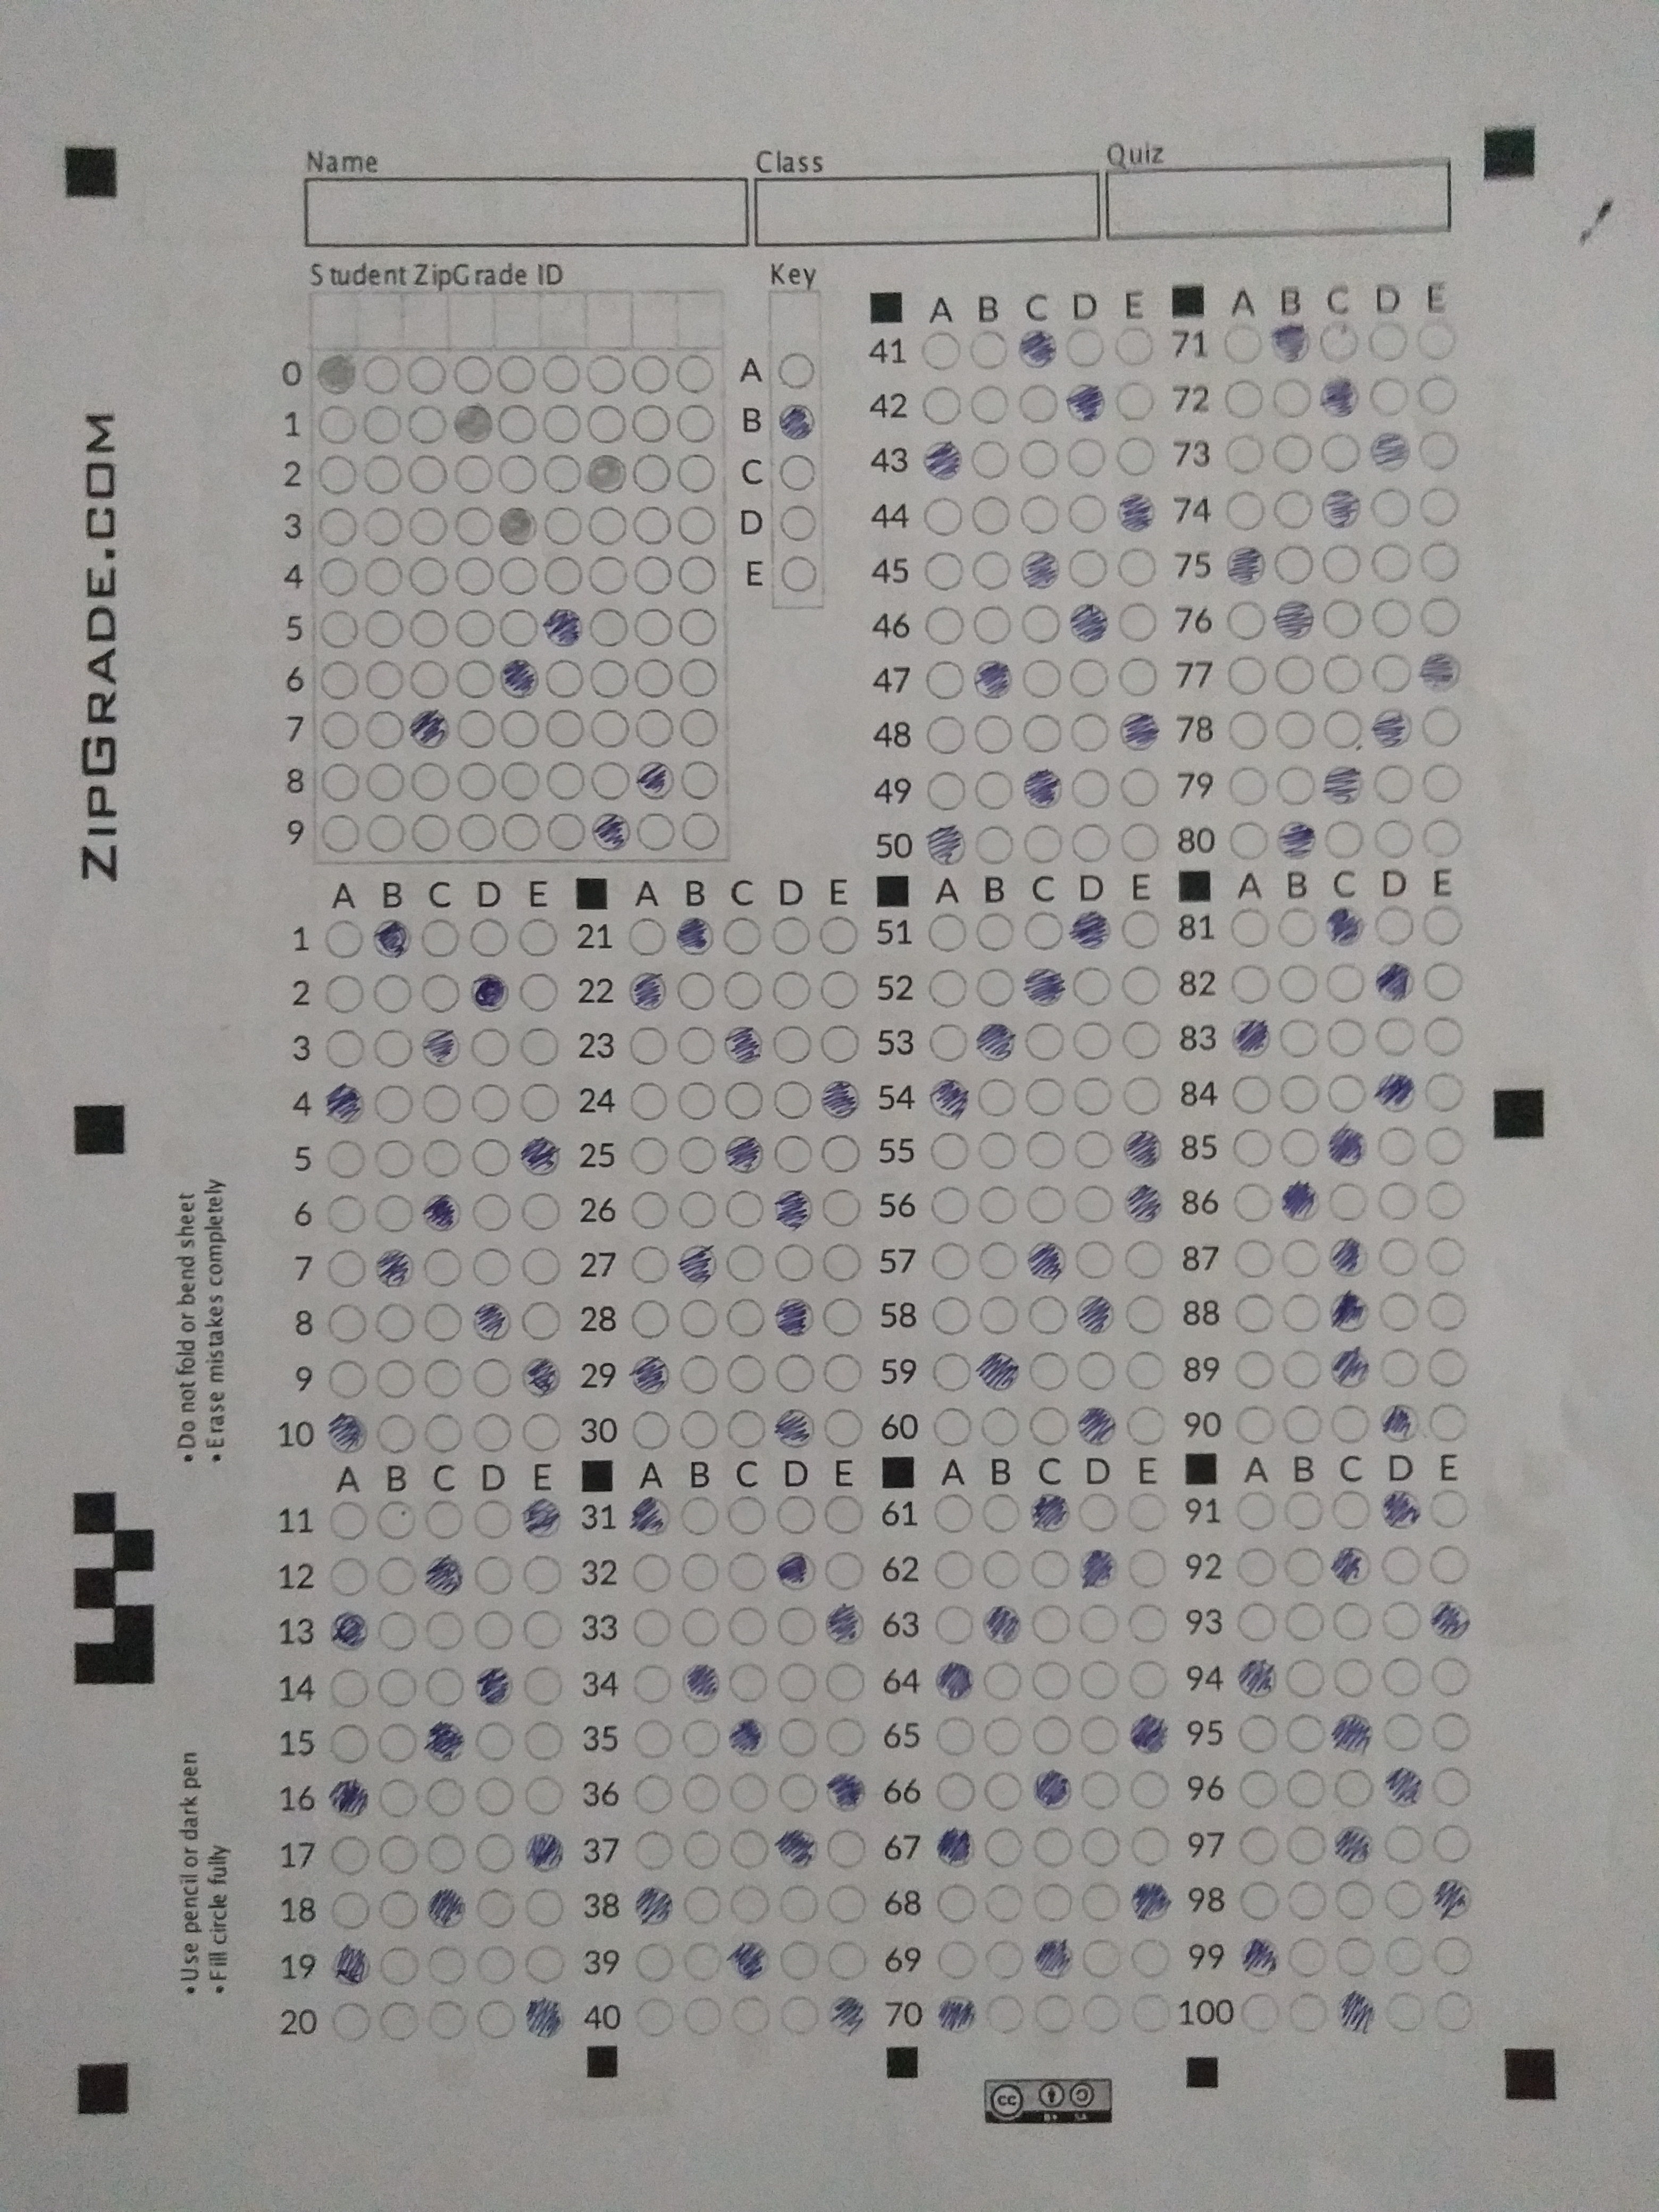not-c: (1080, 1991, 1124, 2036), (359, 354, 403, 397), (453, 451, 497, 495), (359, 505, 403, 549), (406, 503, 450, 547), (406, 453, 450, 496), (406, 402, 450, 446), (408, 604, 451, 648), (361, 453, 404, 496), (315, 556, 359, 599), (314, 451, 357, 495), (586, 352, 629, 395), (629, 352, 673, 395), (538, 352, 582, 395), (495, 352, 538, 395), (451, 352, 495, 395), (404, 352, 448, 395), (314, 402, 357, 446), (772, 1076, 814, 1122), (317, 505, 361, 547), (361, 404, 404, 446), (676, 354, 720, 395), (362, 709, 404, 752), (631, 606, 674, 648), (633, 554, 676, 596), (542, 554, 586, 596), (586, 402, 629, 444), (544, 707, 587, 749), (519, 1299, 563, 1341), (819, 1021, 863, 1062), (725, 1188, 769, 1230), (817, 914, 861, 956), (627, 1080, 671, 1122), (821, 1406, 864, 1447), (1122, 1350, 1166, 1392), (1377, 1179, 1420, 1221), (1328, 1181, 1371, 1223), (1324, 1015, 1368, 1057), (1237, 1824, 1281, 1865), (1234, 1489, 1277, 1531), (1079, 1937, 1122, 1979), (1077, 1604, 1121, 1646), (1075, 1491, 1119, 1533), (1127, 1660, 1171, 1702), (1127, 1768, 1171, 1810), (1028, 1548, 1072, 1590), (1028, 1604, 1072, 1646), (924, 549, 967, 590), (1366, 320, 1410, 362), (1222, 434, 1265, 475), (1323, 707, 1366, 749), (1370, 486, 1413, 528), (1225, 765, 1269, 806), (681, 1994, 725, 2036), (678, 1716, 721, 1757), (631, 1773, 674, 1815), (631, 1829, 674, 1871), (326, 1667, 369, 1709), (422, 1498, 465, 1540), (629, 1552, 673, 1594), (521, 1608, 565, 1649), (472, 1831, 516, 1872), (329, 2001, 373, 2043), (425, 2000, 469, 2041), (498, 451, 538, 496), (364, 812, 406, 853), (674, 505, 716, 547), (676, 402, 718, 444), (587, 606, 629, 648), (678, 657, 720, 698), (420, 1301, 462, 1343), (518, 970, 559, 1012), (723, 1242, 765, 1284), (725, 1078, 767, 1120), (676, 1080, 718, 1122), (774, 1352, 816, 1393), (821, 1186, 863, 1228), (1073, 1238, 1115, 1280), (978, 1292, 1019, 1334), (1432, 1991, 1474, 2033), (1330, 1402, 1371, 1444), (1284, 1766, 1326, 1808), (1382, 1824, 1424, 1865), (1384, 1933, 1425, 1975), (1384, 1989, 1425, 2031), (1066, 547, 1108, 589), (924, 604, 965, 646), (924, 714, 965, 756), (969, 439, 1011, 481), (1019, 493, 1061, 535), (1270, 434, 1312, 475), (1227, 599, 1269, 641), (1229, 819, 1270, 860), (1373, 763, 1415, 805), (777, 1883, 819, 1925), (633, 1940, 674, 1982), (826, 1940, 868, 1982), (779, 1940, 821, 1982), (823, 1494, 864, 1536), (727, 1660, 769, 1702), (423, 1608, 465, 1649), (328, 1498, 369, 1540), (523, 1719, 565, 1761), (376, 1888, 418, 1930), (380, 1944, 422, 1986), (474, 1886, 516, 1928), (378, 2000, 420, 2041), (775, 451, 817, 493), (451, 507, 495, 547), (410, 761, 453, 801), (317, 813, 361, 853), (317, 761, 361, 801), (676, 606, 720, 646), (455, 608, 498, 648), (587, 554, 631, 594), (498, 556, 542, 596), (676, 451, 720, 491), (633, 658, 676, 698), (500, 759, 544, 799), (497, 707, 540, 747), (457, 812, 500, 852), (455, 707, 498, 747), (680, 810, 723, 850), (678, 707, 721, 747), (633, 707, 676, 747), (469, 1357, 512, 1397), (471, 1245, 514, 1285), (324, 1249, 368, 1289), (469, 1191, 512, 1231), (373, 1191, 416, 1231), (324, 1193, 368, 1233), (324, 1137, 368, 1177), (324, 1029, 368, 1069), (519, 1082, 563, 1122), (371, 972, 415, 1012), (519, 1411, 563, 1451), (469, 1413, 512, 1453), (422, 1413, 465, 1453), (772, 1132, 816, 1172), (770, 1026, 814, 1066), (770, 970, 814, 1010), (721, 970, 765, 1010), (627, 1136, 671, 1176), (626, 916, 669, 956), (678, 1409, 721, 1449), (676, 1298, 720, 1338), (978, 1238, 1021, 1278), (1072, 1183, 1115, 1223), (1072, 1129, 1115, 1169), (1072, 1076, 1115, 1116), (1070, 1021, 1114, 1061), (1023, 1021, 1066, 1061), (927, 1021, 971, 1061), (927, 967, 971, 1007), (1119, 909, 1162, 949), (974, 911, 1018, 951), (927, 911, 971, 951), (1236, 1404, 1279, 1444), (1124, 1406, 1168, 1446), (1028, 1406, 1072, 1446), (1025, 1294, 1068, 1334), (931, 1296, 974, 1336), (929, 1240, 972, 1280), (1279, 1348, 1323, 1388), (1279, 1291, 1323, 1331), (1234, 1292, 1277, 1332), (1377, 1237, 1420, 1277), (1424, 1071, 1467, 1111), (1279, 1129, 1323, 1169), (1229, 907, 1272, 948), (1283, 1489, 1326, 1529), (1427, 1487, 1471, 1527), (1378, 1346, 1422, 1386), (1284, 1824, 1328, 1864), (1286, 1712, 1330, 1752), (1431, 1824, 1474, 1864), (1429, 1766, 1473, 1806), (1429, 1710, 1473, 1750), (1380, 1710, 1424, 1750), (1429, 1656, 1473, 1696), (1431, 1937, 1474, 1977), (1335, 1937, 1378, 1977), (1284, 1937, 1328, 1977), (1331, 1878, 1375, 1918), (1284, 1881, 1328, 1921), (1288, 1993, 1331, 2033), (931, 1494, 974, 1534), (1079, 1825, 1122, 1865), (1127, 1825, 1171, 1865), (1079, 1881, 1122, 1921), (1030, 1883, 1073, 1923), (981, 1883, 1025, 1923), (934, 1940, 978, 1980), (1131, 1939, 1175, 1979), (983, 1994, 1026, 2034), (1126, 1548, 1169, 1588), (1127, 1604, 1171, 1644), (1077, 1716, 1121, 1756), (981, 1773, 1025, 1813), (934, 1771, 978, 1811), (983, 1827, 1026, 1867), (979, 1550, 1023, 1590), (981, 1662, 1025, 1702), (1028, 1660, 1072, 1700), (1114, 380, 1157, 420), (971, 604, 1014, 644), (1019, 603, 1063, 643), (1019, 658, 1063, 698), (1115, 657, 1159, 697), (971, 714, 1014, 754), (972, 826, 1016, 866), (1021, 824, 1065, 864), (1068, 822, 1112, 862), (1117, 820, 1161, 860), (1114, 327, 1157, 368), (1061, 327, 1105, 368), (1016, 383, 1060, 423), (1016, 439, 1060, 479), (969, 383, 1012, 423), (1065, 493, 1108, 533), (1317, 322, 1361, 362), (1276, 709, 1319, 749), (1417, 488, 1460, 528), (1319, 543, 1363, 583), (1420, 817, 1464, 857), (1371, 819, 1415, 859), (824, 1885, 868, 1925), (634, 1994, 678, 2034), (728, 1994, 772, 2034), (633, 1608, 676, 1648), (727, 1606, 770, 1646), (775, 1606, 819, 1646), (774, 1663, 817, 1703), (821, 1662, 864, 1702), (629, 1719, 673, 1759), (775, 1717, 819, 1757), (823, 1716, 866, 1756), (680, 1771, 723, 1811), (775, 1771, 819, 1811), (727, 1827, 770, 1867), (375, 1721, 418, 1761), (375, 1667, 418, 1707), (375, 1611, 418, 1651), (328, 1724, 371, 1764), (678, 1494, 721, 1534), (521, 1775, 565, 1815), (472, 1775, 516, 1815), (521, 1554, 565, 1594), (423, 1832, 467, 1872), (422, 1667, 465, 1707), (474, 1942, 518, 1982), (425, 1944, 469, 1984), (775, 352, 819, 392), (775, 502, 819, 542), (777, 554, 821, 594), (364, 556, 404, 597), (317, 608, 359, 648), (408, 554, 448, 596), (375, 1413, 416, 1453), (410, 658, 451, 698), (364, 761, 406, 801), (364, 658, 406, 698), (317, 660, 359, 700), (674, 554, 716, 594), (498, 608, 540, 648), (633, 505, 674, 545), (586, 505, 627, 545), (542, 505, 584, 545), (631, 453, 673, 493), (542, 453, 584, 493), (631, 402, 673, 442), (542, 402, 584, 442), (497, 402, 538, 442), (453, 557, 495, 597), (591, 759, 633, 799), (589, 707, 631, 747), (589, 658, 631, 698), (547, 812, 589, 852), (545, 761, 587, 801), (544, 658, 586, 698), (500, 812, 542, 852), (457, 761, 498, 801), (362, 608, 404, 648), (410, 813, 451, 853), (518, 918, 559, 958), (467, 918, 509, 958), (418, 918, 460, 958), (322, 918, 364, 958), (680, 759, 721, 799), (319, 711, 361, 751), (422, 1359, 464, 1399), (373, 1359, 415, 1399), (326, 1359, 368, 1399), (371, 1139, 413, 1179), (326, 1303, 368, 1343), (521, 1245, 563, 1285), (521, 1188, 563, 1228), (422, 1247, 464, 1287), (471, 1137, 512, 1177), (420, 1137, 462, 1177), (375, 1303, 416, 1343), (471, 1083, 512, 1123), (420, 1082, 462, 1122), (371, 1083, 413, 1123), (469, 1026, 511, 1066), (371, 1028, 413, 1068), (518, 1026, 559, 1066), (420, 972, 462, 1012), (322, 974, 364, 1014), (631, 1409, 673, 1449), (631, 1299, 673, 1339), (817, 968, 859, 1008), (676, 1190, 718, 1230), (676, 1134, 718, 1174), (629, 1190, 671, 1230), (770, 914, 812, 954), (721, 916, 763, 956), (629, 1245, 671, 1285), (676, 1024, 718, 1064), (627, 1024, 669, 1064), (931, 1407, 972, 1447), (680, 1353, 721, 1393), (725, 1407, 767, 1447), (725, 1353, 767, 1393), (725, 1298, 767, 1338), (821, 1352, 863, 1392), (823, 1296, 864, 1336), (821, 1242, 863, 1282), (772, 1240, 814, 1280), (819, 1132, 861, 1172), (1234, 1348, 1276, 1388), (1122, 1238, 1164, 1278), (976, 1184, 1018, 1224), (1026, 1183, 1068, 1223), (1025, 1129, 1066, 1169), (1023, 1076, 1065, 1116), (978, 1129, 1019, 1169), (1121, 1075, 1162, 1115), (1119, 965, 1161, 1005), (1122, 1019, 1164, 1059), (1072, 965, 1114, 1005), (976, 1076, 1018, 1116), (976, 967, 1018, 1007), (1023, 911, 1065, 951), (979, 1406, 1021, 1446), (1075, 1352, 1117, 1392), (1028, 1350, 1070, 1390), (931, 1352, 972, 1392), (1124, 1294, 1166, 1334), (929, 1184, 971, 1224), (1427, 1235, 1469, 1275), (1424, 1179, 1466, 1219), (1425, 1125, 1467, 1165), (1377, 1127, 1419, 1167), (1424, 1015, 1466, 1055), (1375, 1014, 1417, 1054), (1424, 960, 1466, 1000), (1422, 906, 1464, 946), (1373, 904, 1415, 944), (1326, 1073, 1368, 1113), (1324, 961, 1366, 1001), (1279, 1237, 1321, 1277), (1279, 1073, 1321, 1113), (1277, 1017, 1319, 1057), (1279, 961, 1321, 1001), (1276, 906, 1317, 946), (1232, 1237, 1274, 1277), (1232, 1183, 1274, 1223), (1234, 1127, 1276, 1167), (1230, 1073, 1272, 1113), (1229, 963, 1270, 1003), (1330, 1489, 1371, 1529), (1427, 1402, 1469, 1442), (1427, 1346, 1469, 1386), (1427, 1292, 1469, 1332), (1378, 1292, 1420, 1332), (1283, 1404, 1324, 1444), (1380, 1601, 1422, 1641), (1427, 1543, 1469, 1583), (1380, 1543, 1422, 1583), (1331, 1768, 1373, 1808), (1333, 1658, 1375, 1698), (1331, 1601, 1373, 1641), (1284, 1658, 1326, 1698), (1283, 1601, 1324, 1641), (1283, 1547, 1324, 1587), (1237, 1768, 1279, 1808), (1236, 1714, 1277, 1754), (1236, 1601, 1277, 1641), (1236, 1545, 1277, 1585), (1239, 1879, 1281, 1919), (1380, 1656, 1422, 1696), (1384, 1878, 1425, 1918), (1239, 1993, 1281, 2033), (1032, 1827, 1073, 1867), (934, 1883, 976, 1923), (985, 1939, 1026, 1979), (1129, 1993, 1171, 2033), (1032, 1993, 1073, 2033), (981, 1716, 1023, 1756), (1030, 1716, 1072, 1756), (1079, 1660, 1121, 1700), (1126, 1493, 1168, 1533), (1079, 1770, 1121, 1810), (934, 1550, 976, 1590), (932, 1604, 974, 1644), (934, 1716, 976, 1756), (979, 1493, 1021, 1533), (971, 550, 1012, 590), (1115, 549, 1157, 589), (1115, 601, 1157, 641), (924, 660, 965, 700), (1066, 658, 1108, 698), (1068, 712, 1110, 752), (1021, 712, 1063, 752), (925, 770, 967, 810), (972, 770, 1014, 810), (1070, 768, 1112, 808), (1119, 766, 1161, 806), (965, 329, 1007, 369), (920, 329, 962, 369), (920, 387, 962, 427), (924, 496, 965, 536), (971, 495, 1012, 535), (1066, 437, 1108, 477), (1115, 435, 1157, 475), (1274, 545, 1316, 585), (1274, 488, 1316, 528), (1419, 428, 1460, 469), (1319, 432, 1361, 472), (1419, 376, 1460, 416), (1371, 374, 1413, 415), (1274, 376, 1316, 416), (1417, 319, 1459, 359), (1227, 711, 1269, 751), (1227, 655, 1269, 695), (1223, 491, 1265, 531), (1223, 380, 1265, 420), (1222, 322, 1263, 362), (1422, 705, 1464, 745), (1371, 651, 1413, 691), (1323, 653, 1364, 693), (1274, 653, 1316, 693), (1420, 597, 1462, 637), (1371, 597, 1413, 637), (1321, 597, 1363, 637), (1420, 542, 1462, 582), (1370, 542, 1412, 582), (1323, 819, 1364, 859), (1420, 763, 1462, 803), (1276, 765, 1317, 805), (476, 2000, 518, 2040), (681, 1885, 723, 1925), (728, 1885, 770, 1925), (681, 1942, 723, 1982), (779, 1994, 821, 2034), (823, 1552, 864, 1592), (678, 1608, 720, 1648), (631, 1663, 673, 1703), (728, 1773, 770, 1813), (680, 1829, 721, 1869), (824, 1827, 866, 1867), (376, 1777, 418, 1817), (474, 1611, 516, 1651), (474, 1554, 516, 1594), (375, 1554, 416, 1594), (329, 1888, 371, 1928), (329, 1836, 371, 1876), (328, 1555, 369, 1595), (375, 1500, 416, 1540), (471, 1498, 512, 1538), (775, 1493, 817, 1533), (725, 1493, 767, 1533), (727, 1550, 769, 1590), (680, 1550, 721, 1590), (474, 1721, 516, 1761), (521, 1663, 563, 1703), (423, 1778, 465, 1818), (376, 1834, 418, 1874), (523, 1944, 565, 1984), (523, 1886, 565, 1926), (453, 660, 497, 698), (634, 812, 678, 850), (676, 968, 714, 1012), (929, 1130, 972, 1169)
taken-c: (326, 1775, 373, 1822), (1314, 374, 1363, 420), (1417, 651, 1464, 697), (1370, 960, 1417, 1005), (408, 707, 453, 752), (523, 1998, 568, 2043), (678, 1660, 721, 1707), (1028, 1770, 1075, 1813), (1279, 1179, 1323, 1226), (1328, 1289, 1371, 1336), (1377, 1400, 1424, 1444), (542, 604, 586, 650), (1021, 963, 1066, 1007), (925, 1076, 971, 1120), (423, 1719, 467, 1764), (423, 1888, 469, 1932), (775, 1825, 821, 1869), (1127, 1712, 1171, 1757), (1223, 545, 1269, 589), (1272, 597, 1317, 641), (1371, 705, 1415, 751), (1323, 763, 1366, 808), (1272, 819, 1317, 862), (1326, 1235, 1371, 1278), (1380, 1766, 1425, 1810), (1330, 1710, 1375, 1754), (1427, 1599, 1473, 1642), (1330, 1543, 1373, 1588), (497, 505, 540, 549), (324, 1083, 368, 1127), (420, 1191, 464, 1235), (772, 1296, 816, 1339), (978, 1350, 1021, 1393), (422, 1554, 465, 1597), (523, 1831, 566, 1874), (331, 1944, 375, 1987), (826, 1994, 870, 2038), (727, 1939, 770, 1982), (1032, 1937, 1075, 1980), (981, 1602, 1025, 1646), (1368, 430, 1412, 474), (1321, 488, 1364, 531), (1323, 906, 1366, 949), (1326, 1125, 1370, 1169), (1333, 1989, 1377, 2033), (1127, 1881, 1173, 1923), (1028, 1493, 1073, 1534), (1115, 493, 1159, 535), (1068, 601, 1110, 644), (971, 658, 1014, 700), (1021, 768, 1065, 810), (369, 918, 413, 960), (519, 1137, 563, 1179), (521, 1355, 563, 1399), (721, 1022, 763, 1066), (974, 1021, 1016, 1064), (1122, 1183, 1166, 1224), (1075, 1292, 1117, 1336), (1075, 1406, 1119, 1447), (774, 1407, 816, 1451), (328, 1411, 369, 1454), (328, 1611, 371, 1653), (474, 1665, 516, 1709), (633, 1885, 674, 1928), (775, 1548, 817, 1592), (631, 1496, 673, 1540), (934, 1827, 978, 1869), (1077, 1548, 1121, 1590), (1229, 1017, 1272, 1059), (1375, 1071, 1417, 1115), (1328, 1346, 1370, 1390), (1432, 1878, 1474, 1921), (1117, 712, 1162, 752), (823, 1771, 868, 1811), (934, 1994, 979, 2034), (1330, 1824, 1375, 1864), (317, 354, 359, 395), (453, 404, 495, 446), (587, 453, 629, 495), (1018, 327, 1060, 369), (1065, 383, 1107, 425), (1021, 549, 1063, 590), (925, 824, 967, 866), (469, 972, 511, 1014), (373, 1247, 415, 1289), (673, 916, 714, 958), (819, 1078, 861, 1120), (1122, 1129, 1164, 1170), (1026, 1240, 1068, 1282), (521, 1498, 563, 1540), (934, 1660, 976, 1702), (418, 1028, 462, 1068), (774, 1186, 814, 1230), (629, 1353, 669, 1397), (1068, 911, 1112, 951), (727, 1717, 770, 1757), (1269, 324, 1312, 364), (1237, 1937, 1281, 1977), (1380, 1489, 1424, 1529), (498, 658, 540, 698), (924, 441, 965, 481), (591, 812, 633, 852), (472, 1301, 514, 1341), (678, 1244, 718, 1285), (824, 1606, 866, 1646), (629, 970, 667, 1014), (1236, 1660, 1279, 1698), (725, 1134, 765, 1174), (775, 404, 817, 442), (634, 761, 674, 799)
